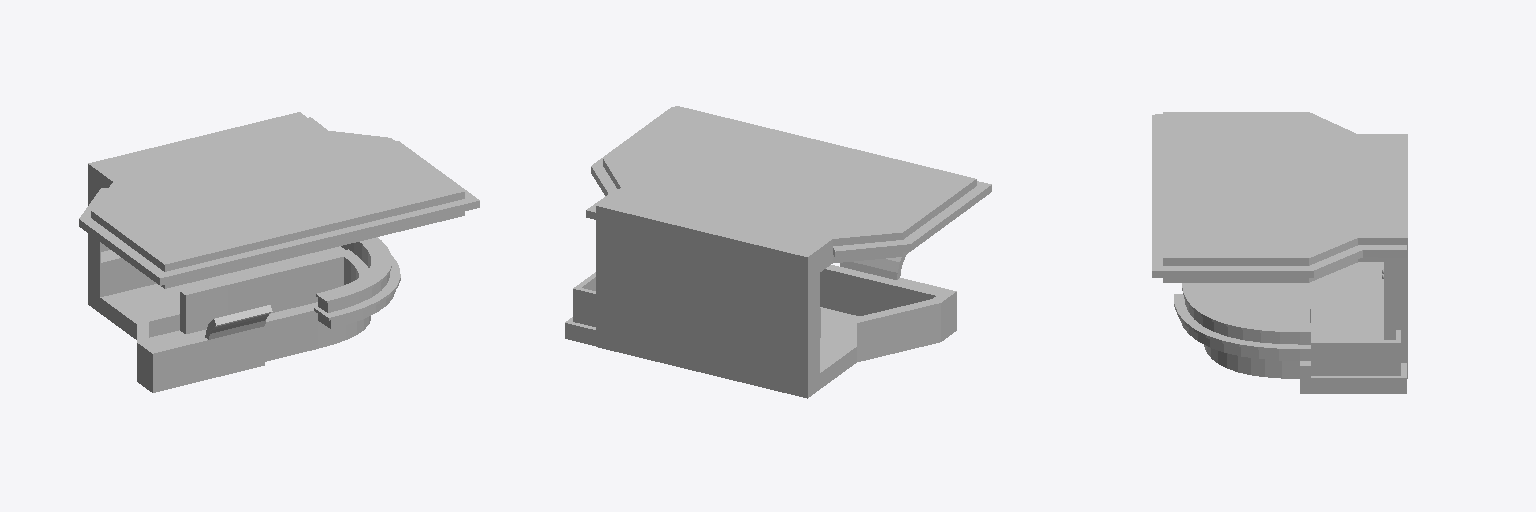
The model's file is room.obj.
The picture shows the model from 3 angles: view 1: azimuth 30°, elevation 25°; view 2: azimuth 150°, elevation 25°; view 3: azimuth 270°, elevation 25°; orthographic projection.
Visible parts, largest first — view 1: Box01; view 2: Box01; view 3: Box01.
Boxes of the visible parts, x1=… form: Box01: x1=79, y1=112, x2=479, y2=392; Box01: x1=565, y1=106, x2=991, y2=398; Box01: x1=1152, y1=112, x2=1407, y2=393.
Size of the model in its own units: 151 by 63.95 by 105.